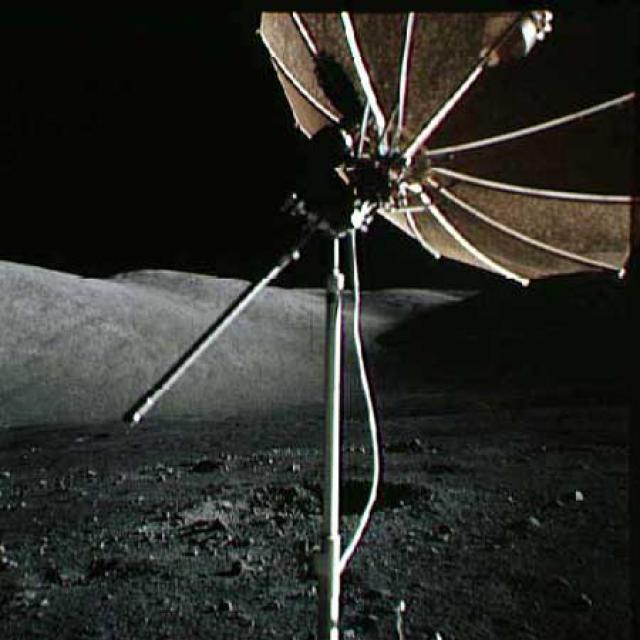artifact: (122, 0, 639, 440), (290, 439, 406, 638)
crater: (203, 473, 439, 519)
